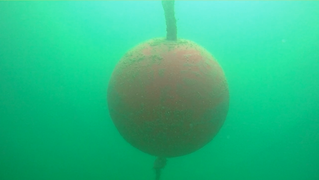bubble: (225, 135, 231, 141), (59, 84, 63, 88)
buoy: (105, 38, 230, 160)
